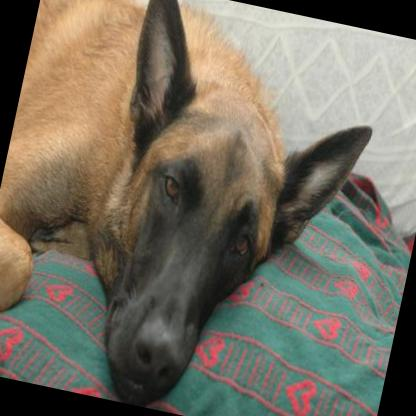malinois: (0, 0, 393, 416)
